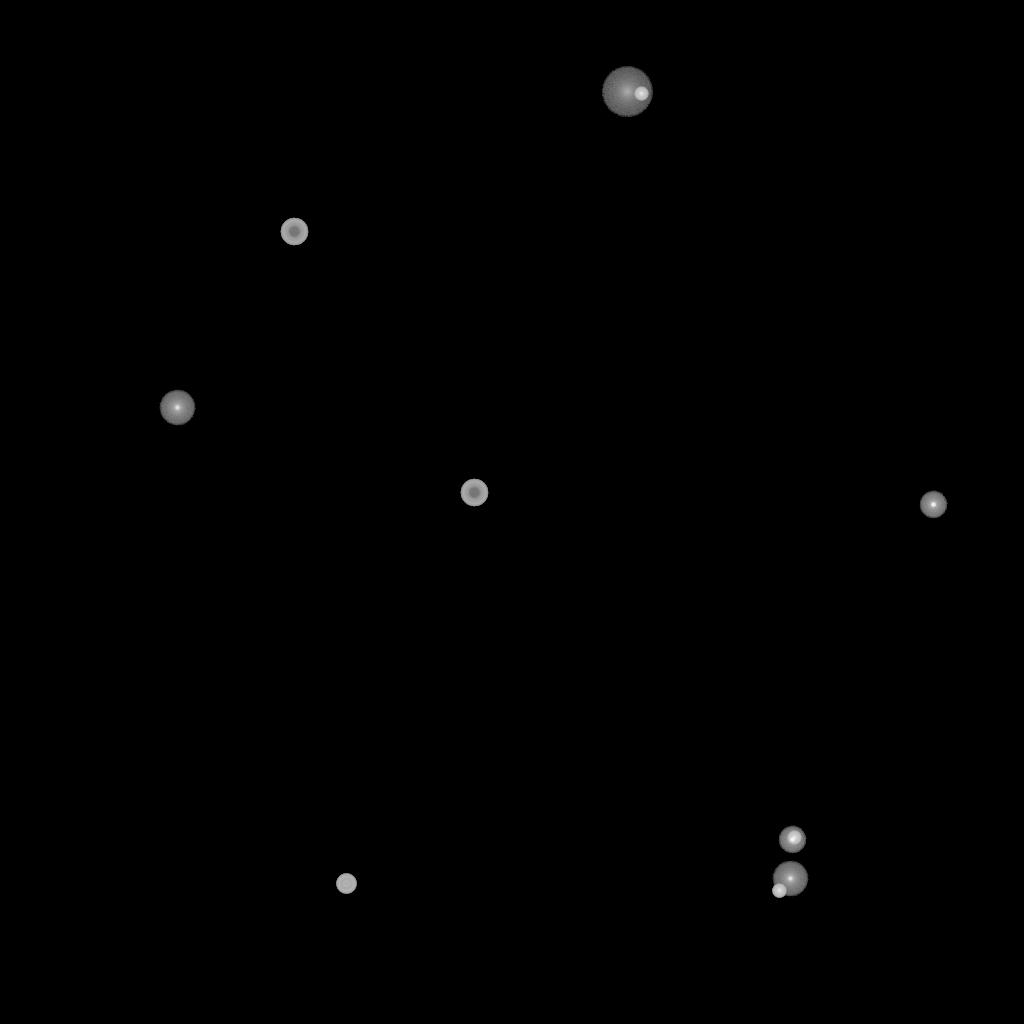depth:-10: (778, 826, 806, 854), (919, 491, 947, 519)
depth:-30: (772, 884, 786, 898), (634, 87, 648, 101), (787, 831, 801, 845)
depth:-40: (336, 874, 356, 894)
depth:-50: (280, 218, 308, 246), (460, 479, 488, 507)
depth:0: (772, 861, 808, 897), (159, 390, 195, 426)
depth:20: (601, 67, 653, 117)
